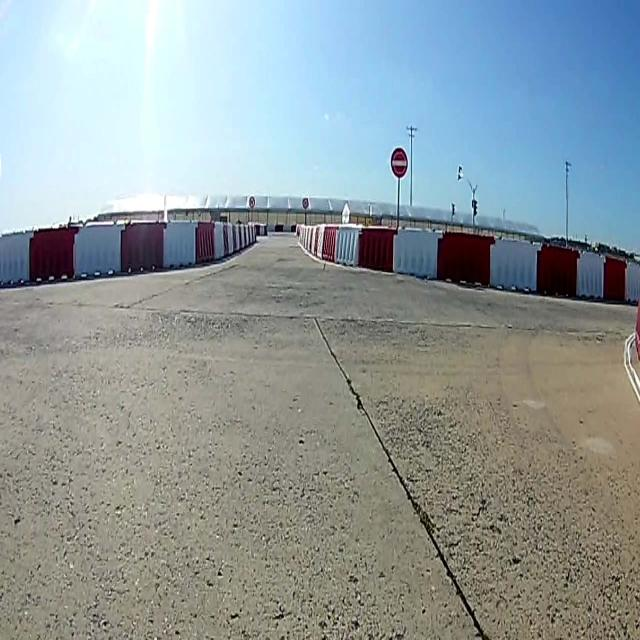girisyok: (391, 146, 407, 180)
